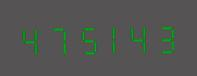five: (72, 20, 98, 56)
four: (126, 19, 152, 55), (17, 21, 43, 56)
one: (99, 19, 125, 55)
seven: (44, 20, 70, 56)
three: (153, 19, 179, 54)
